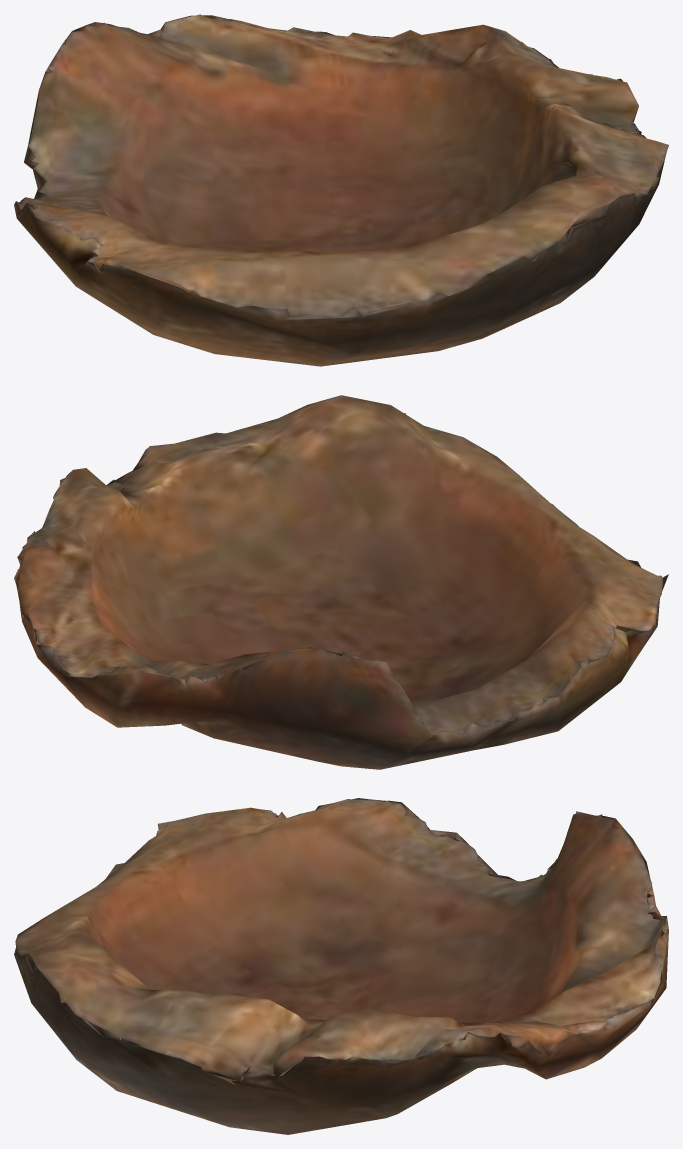
Rendered from wooden_bowl_01.glb.
3 views of the same model, one above another, from view 1: azimuth 30°, elevation 25°; view 2: azimuth 150°, elevation 25°; view 3: azimuth 270°, elevation 25° (orthographic).
Parts seen in each view (by area): view 1: wooden_bowl_01; view 2: wooden_bowl_01; view 3: wooden_bowl_01.
Boxes of the visible parts, left/top/right/bottom form: wooden_bowl_01: left=14, top=14, right=668, bottom=366; wooden_bowl_01: left=14, top=395, right=668, bottom=769; wooden_bowl_01: left=14, top=798, right=668, bottom=1134.
Bounding box in the file's own units: 0.3132 × 0.0936 × 0.3099.
1 material, 1 textured.
